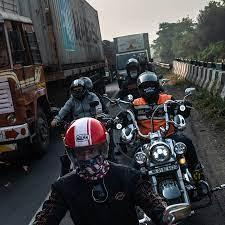helmet: (64, 117, 110, 177), (136, 71, 160, 102), (70, 78, 88, 100), (126, 58, 141, 79)
